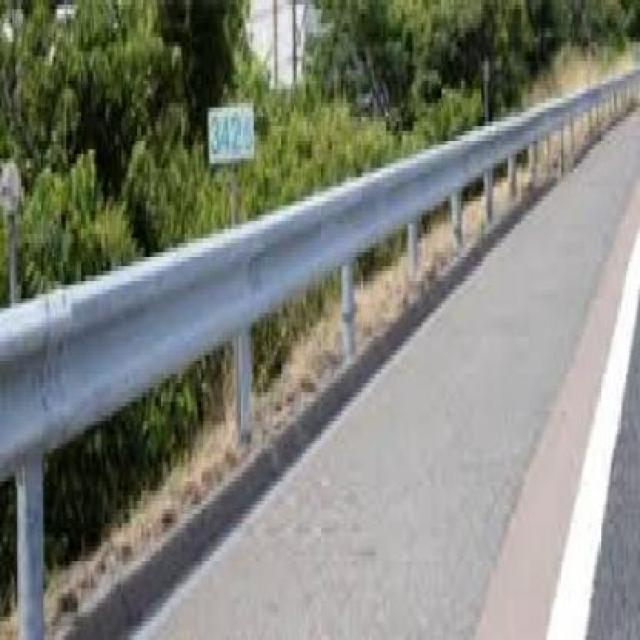Guard rail: (0, 55, 629, 631)
